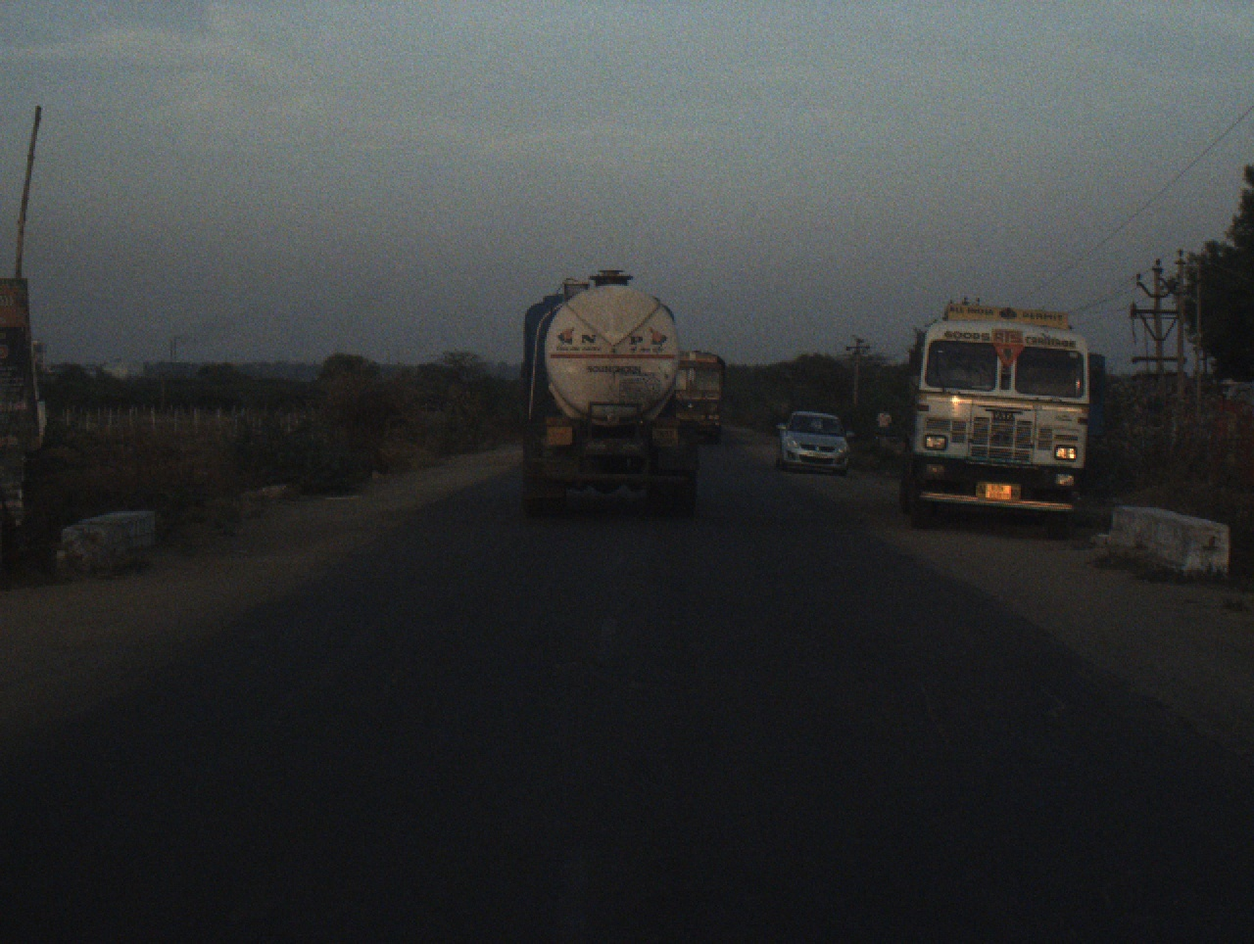car: (778, 404, 855, 472)
person: (873, 402, 892, 446)
truck: (889, 303, 1107, 540), (517, 264, 694, 522), (667, 345, 728, 444)
